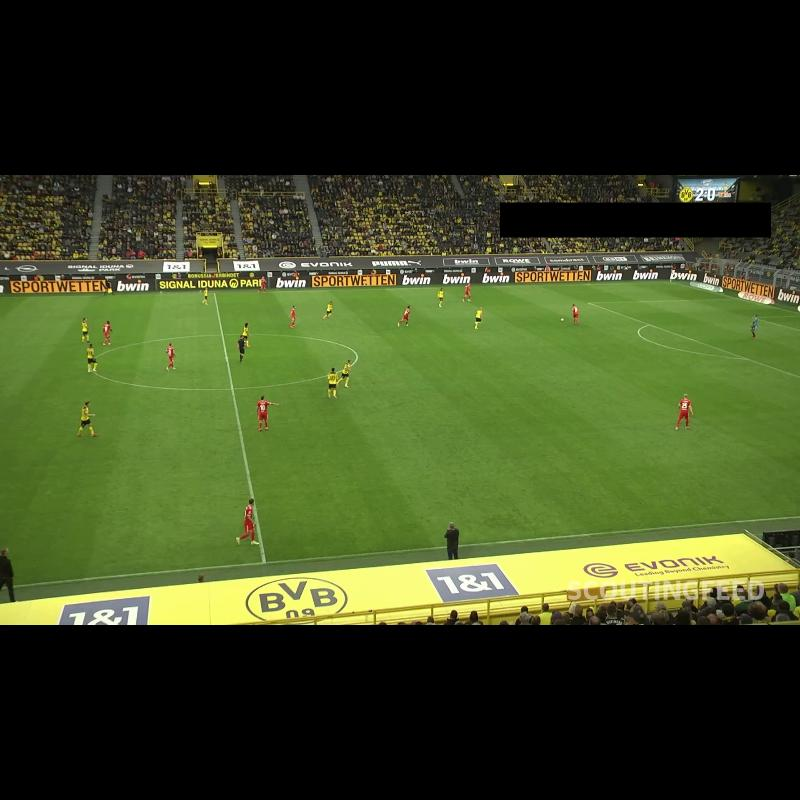cross_recipient_zone: (588, 299, 800, 377)
crossing_player_zone: (468, 283, 736, 305), (737, 404, 800, 441)
pitch: (0, 282, 800, 587)
